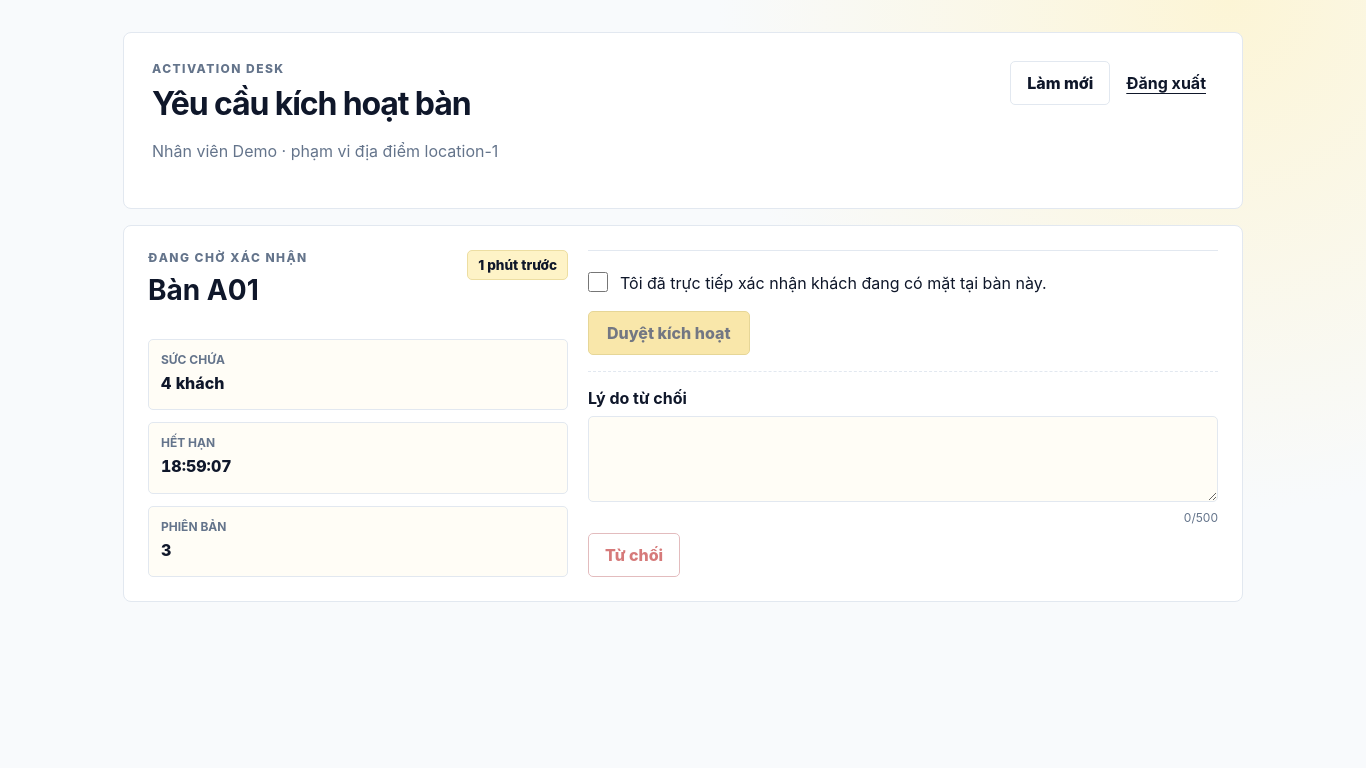
it: StaffActivationWorkspace › requires physical-presence confirmation and sends approved decision contracts
Expected: the button "Duyệt kích hoạt" is disabled, [588,311,750,355]
Click the checkbox labelled "Tôi đã trực tiếp xác nhận khách đang có mặt tại bàn này.": point(598, 282) [588,272,608,292]
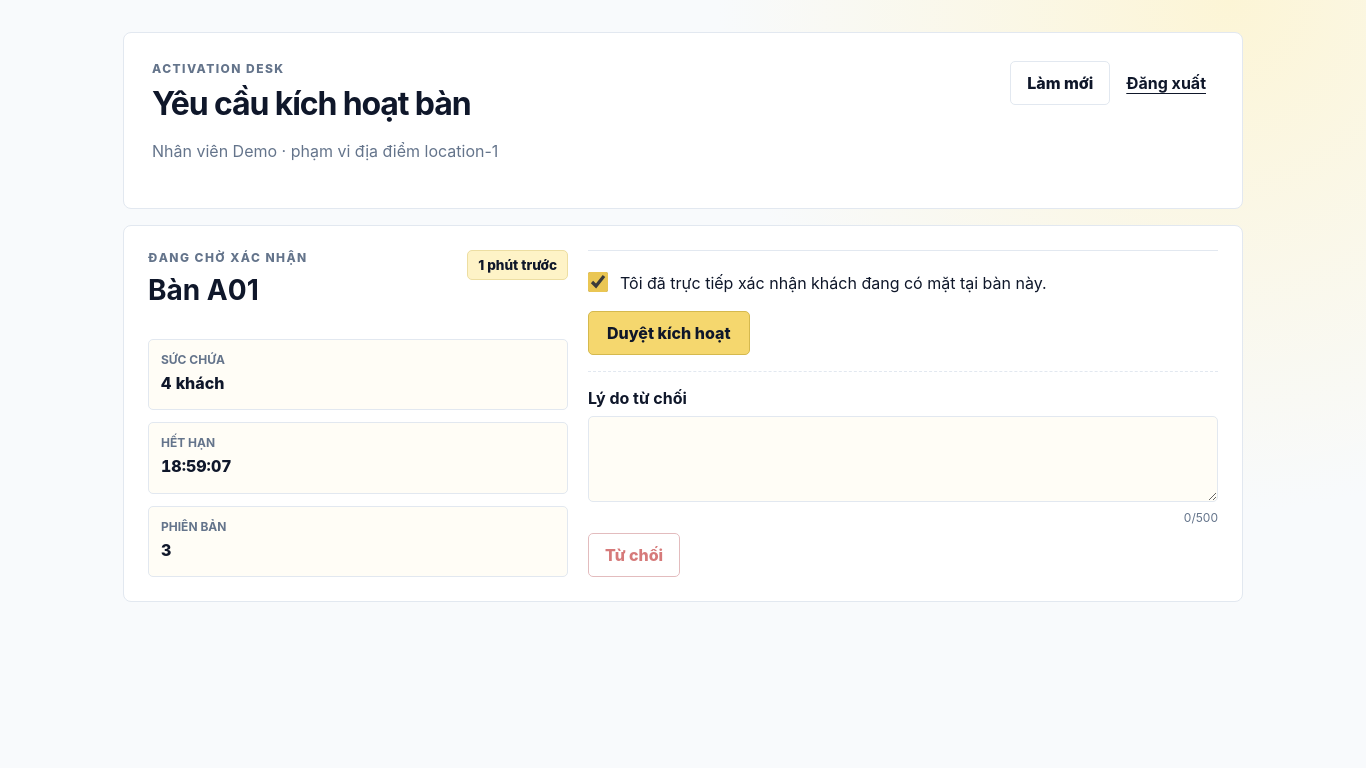
Expected: the button "Duyệt kích hoạt" is enabled
Click the button "Duyệt kích hoạt": point(669, 333) [588,311,750,355]
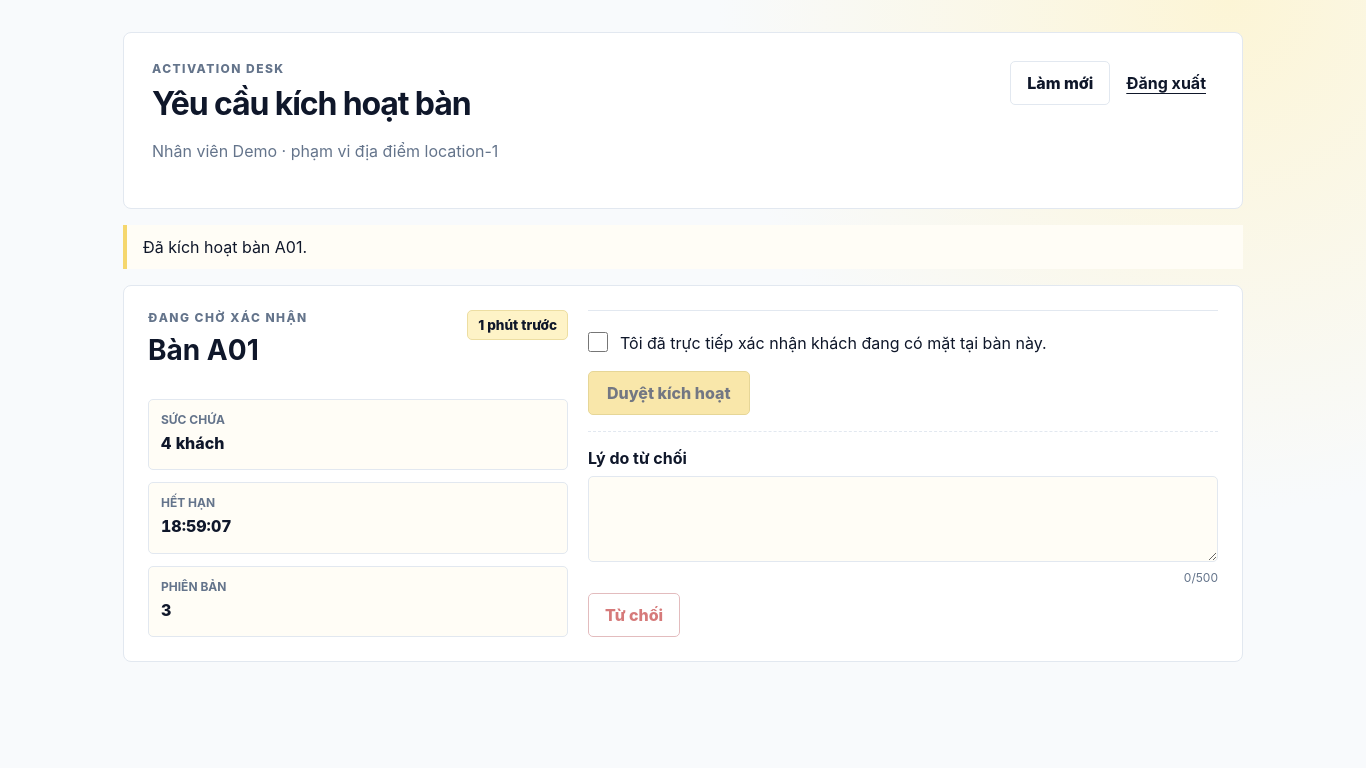
Expected: the text "Đã kích hoạt bàn A01." is shown, [123,225,1243,269]
